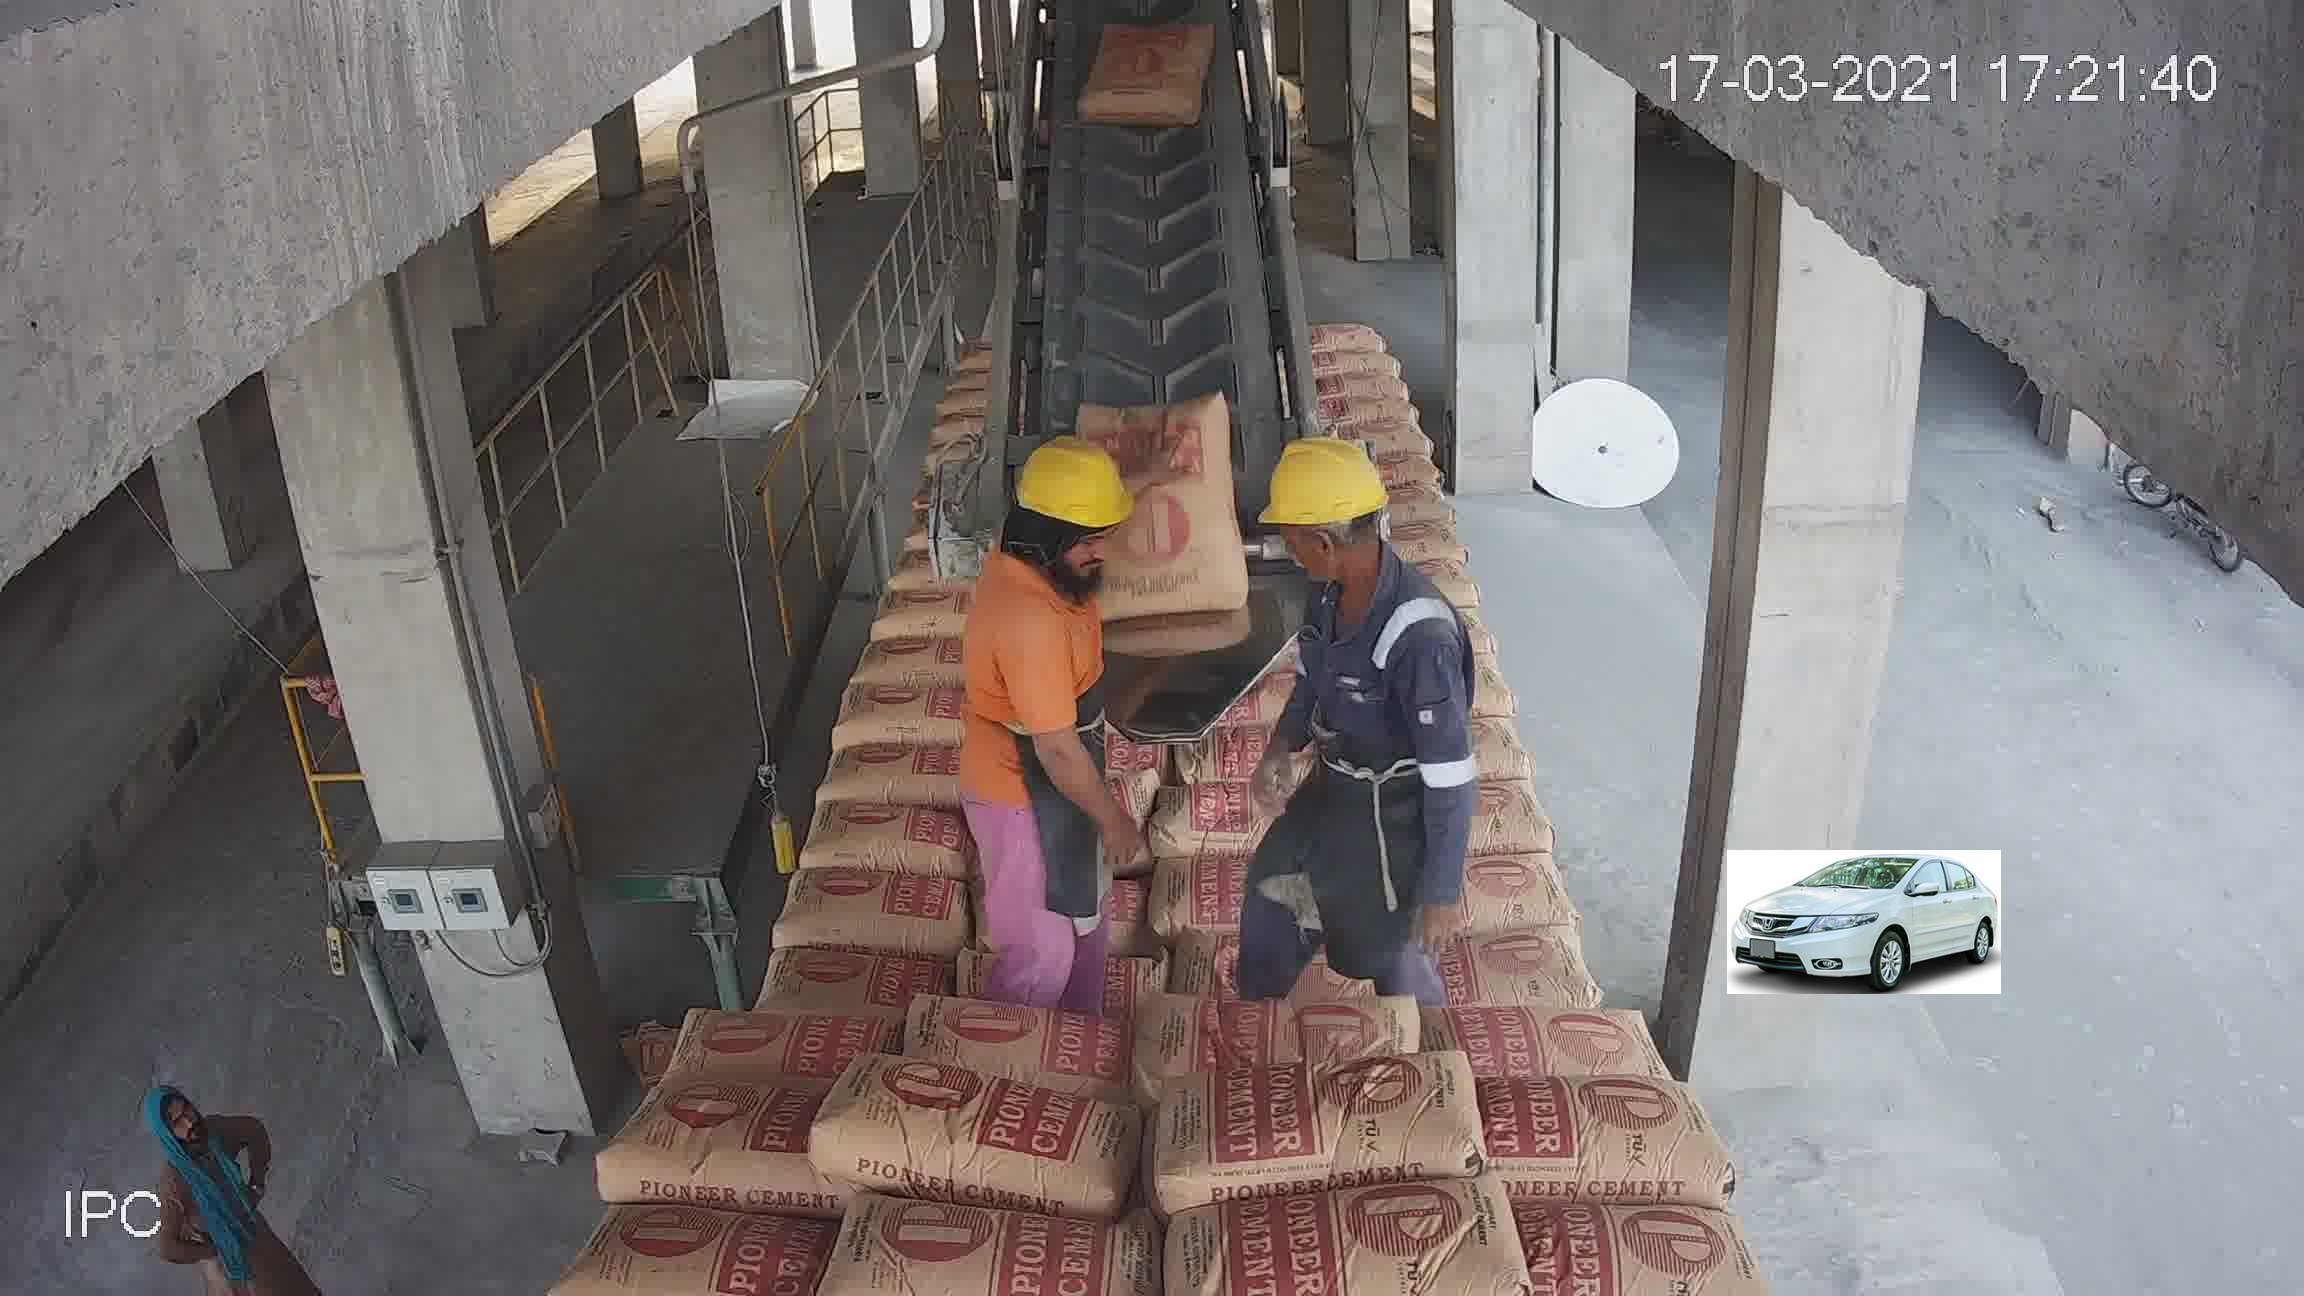bag_h: (1143, 1048, 1524, 1217), (1143, 1168, 1540, 1282), (1168, 919, 1464, 1068), (817, 1076, 1158, 1190), (1138, 839, 1438, 961), (870, 964, 1143, 1086), (633, 961, 873, 1090), (1449, 946, 1692, 1071), (1155, 718, 1393, 840), (1508, 1065, 1728, 1195), (813, 1218, 1149, 1296), (590, 1076, 790, 1206), (527, 1211, 836, 1291), (896, 847, 1135, 949), (673, 851, 894, 954), (900, 750, 1117, 850), (709, 771, 896, 885), (1400, 760, 1589, 855), (1548, 1196, 1774, 1268), (1457, 869, 1631, 961), (1003, 658, 1188, 744), (1013, 571, 1203, 631), (1021, 612, 1177, 684), (1393, 717, 1537, 771), (1364, 601, 1487, 661), (1407, 658, 1514, 723), (1051, 548, 1188, 587), (945, 491, 1041, 543)
belt: (1008, 21, 1283, 514)
